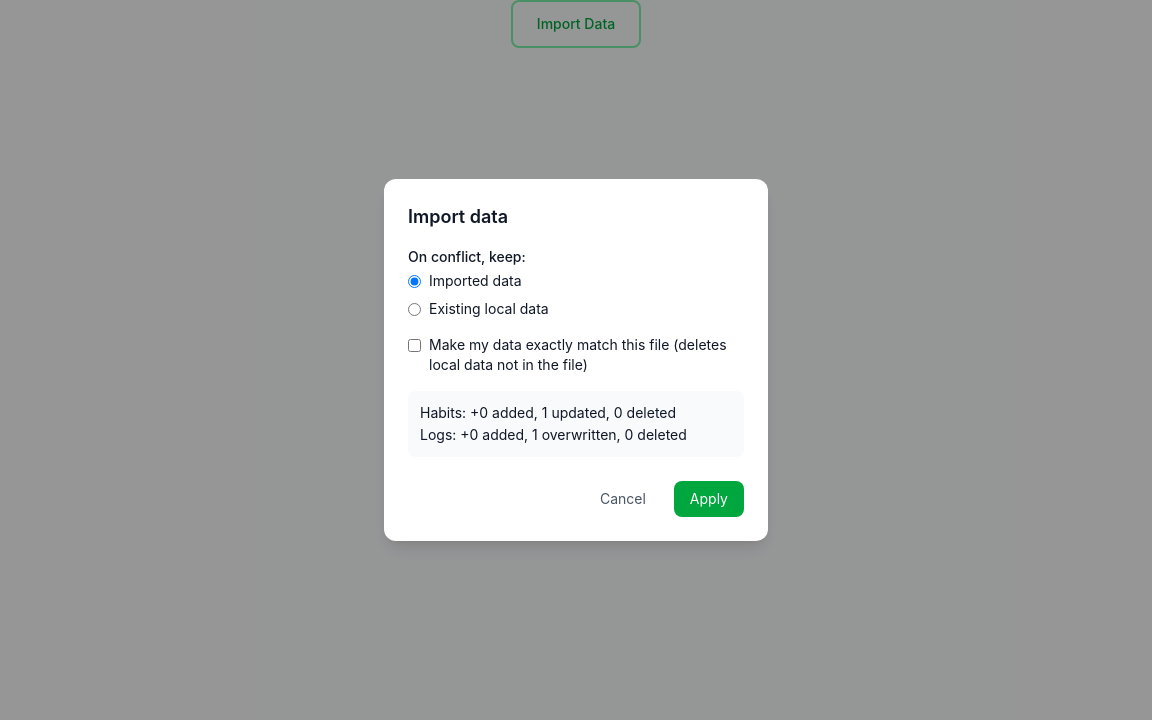
Test: ImportData.vue › surfaces an error and keeps the dialog open if applying throws
Click the button with test id "apply".
click(709, 499)  # box [674,481,744,517]
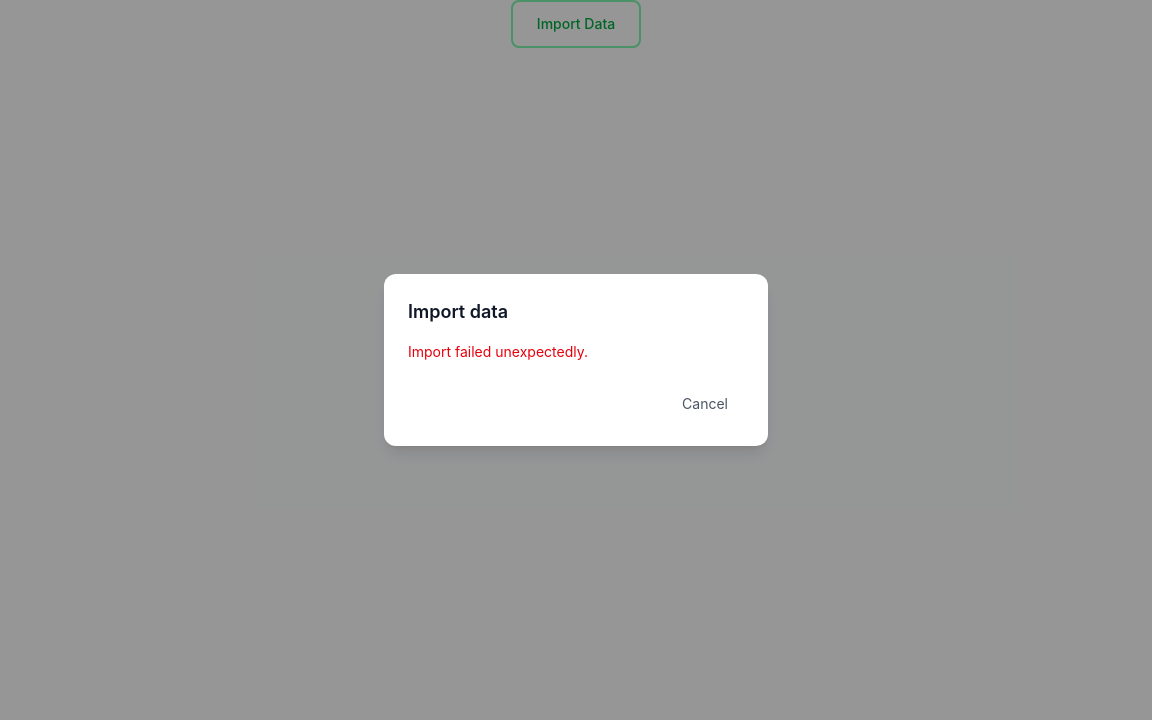
Now the text "Import failed unexpectedly." is shown, box [408,343,588,360]
